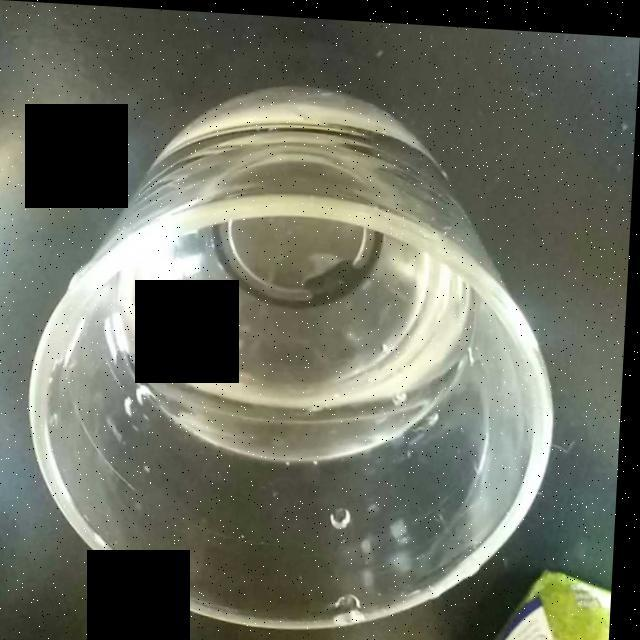water: (116, 210, 478, 417)
